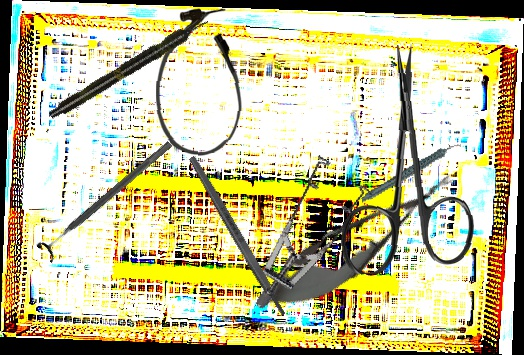Cannula: (153, 6, 246, 158)
Fixation Ring: (35, 134, 179, 264)
Handpiece: (46, 14, 212, 123), (354, 142, 469, 204)
Iris Scissors: (334, 42, 476, 275)
Micro Scissor: (250, 152, 469, 330)
Scalpel Handle: (187, 154, 288, 318)
Speculum: (211, 140, 396, 312)
